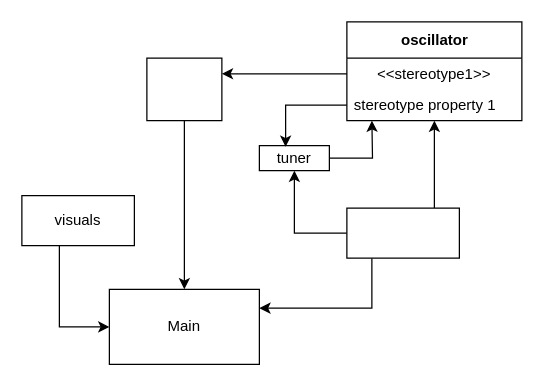
Some shapes in this 544 by 386 pixel diagram are drawn without their labels. The shapes that lost their labels are listed below. From the top down, each one's centre as x and y in pixels, then its label:
(x=184, y=89): ui
(x=402, y=232): controls
